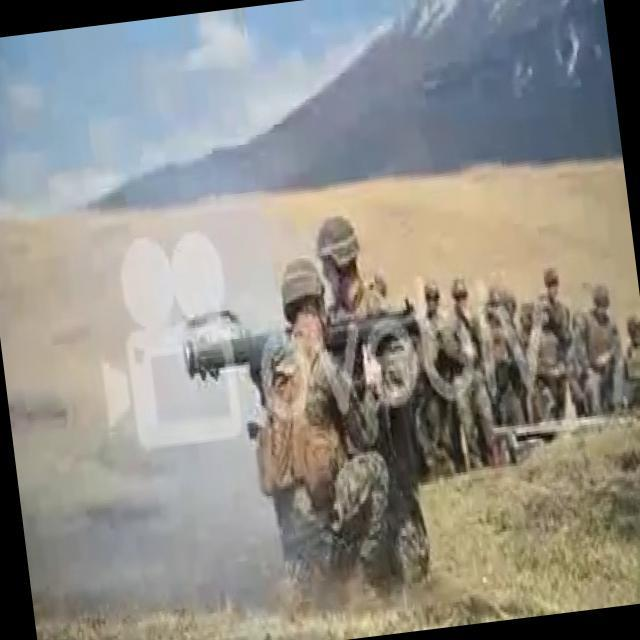rocket: (179, 308, 423, 379)
